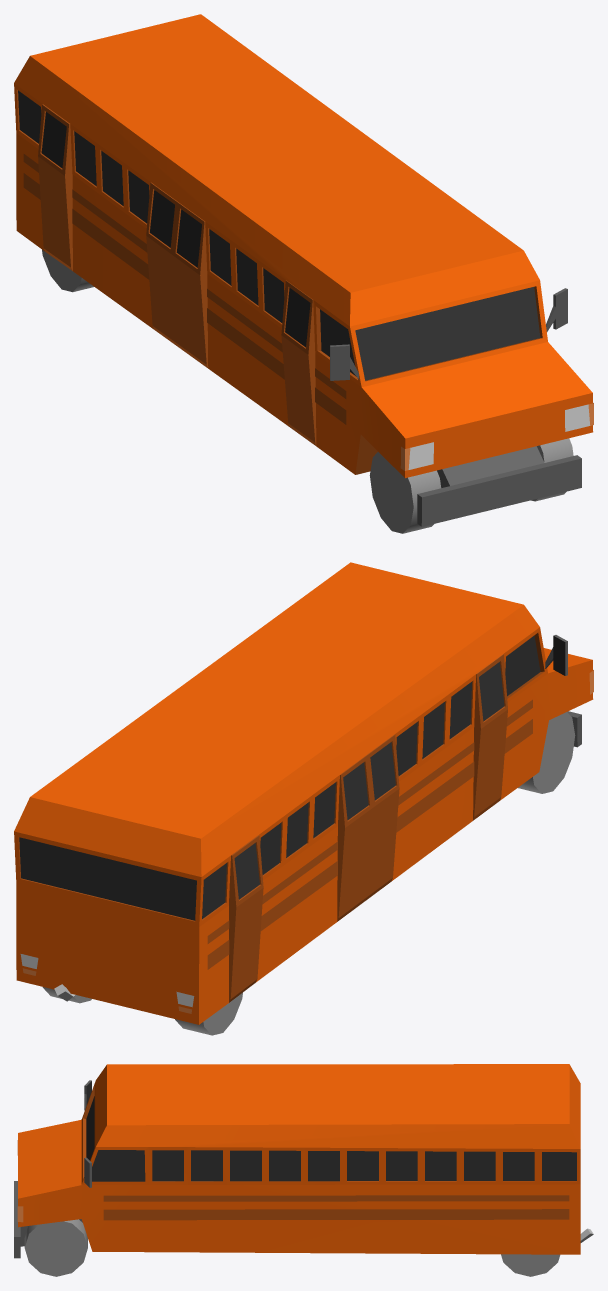
The model's file is bus_01.fbx.
3 renders of one model, top to bottom at view 1: azimuth 30°, elevation 25°; view 2: azimuth 150°, elevation 25°; view 3: azimuth 270°, elevation 25°, orthographic. The views are drawn at different scales.
Visible parts, largest first — view 1: bus_01_001; view 2: bus_01_001; view 3: bus_01_001.
Boxes of the visible parts, x1,y1,x2,y2 form: bus_01_001: [14, 14, 593, 533]; bus_01_001: [14, 562, 593, 1035]; bus_01_001: [14, 1064, 593, 1276].
Size of the model in its own units: 2.77 by 2.39 by 8.14.
